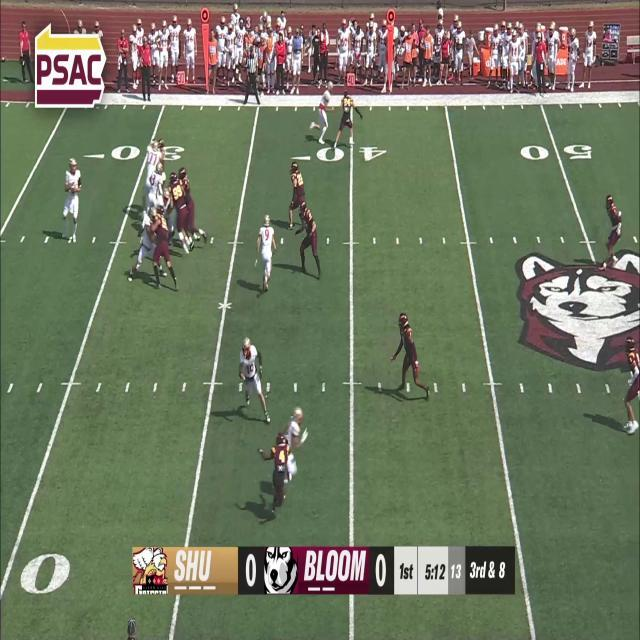football: (70, 183, 76, 194)
